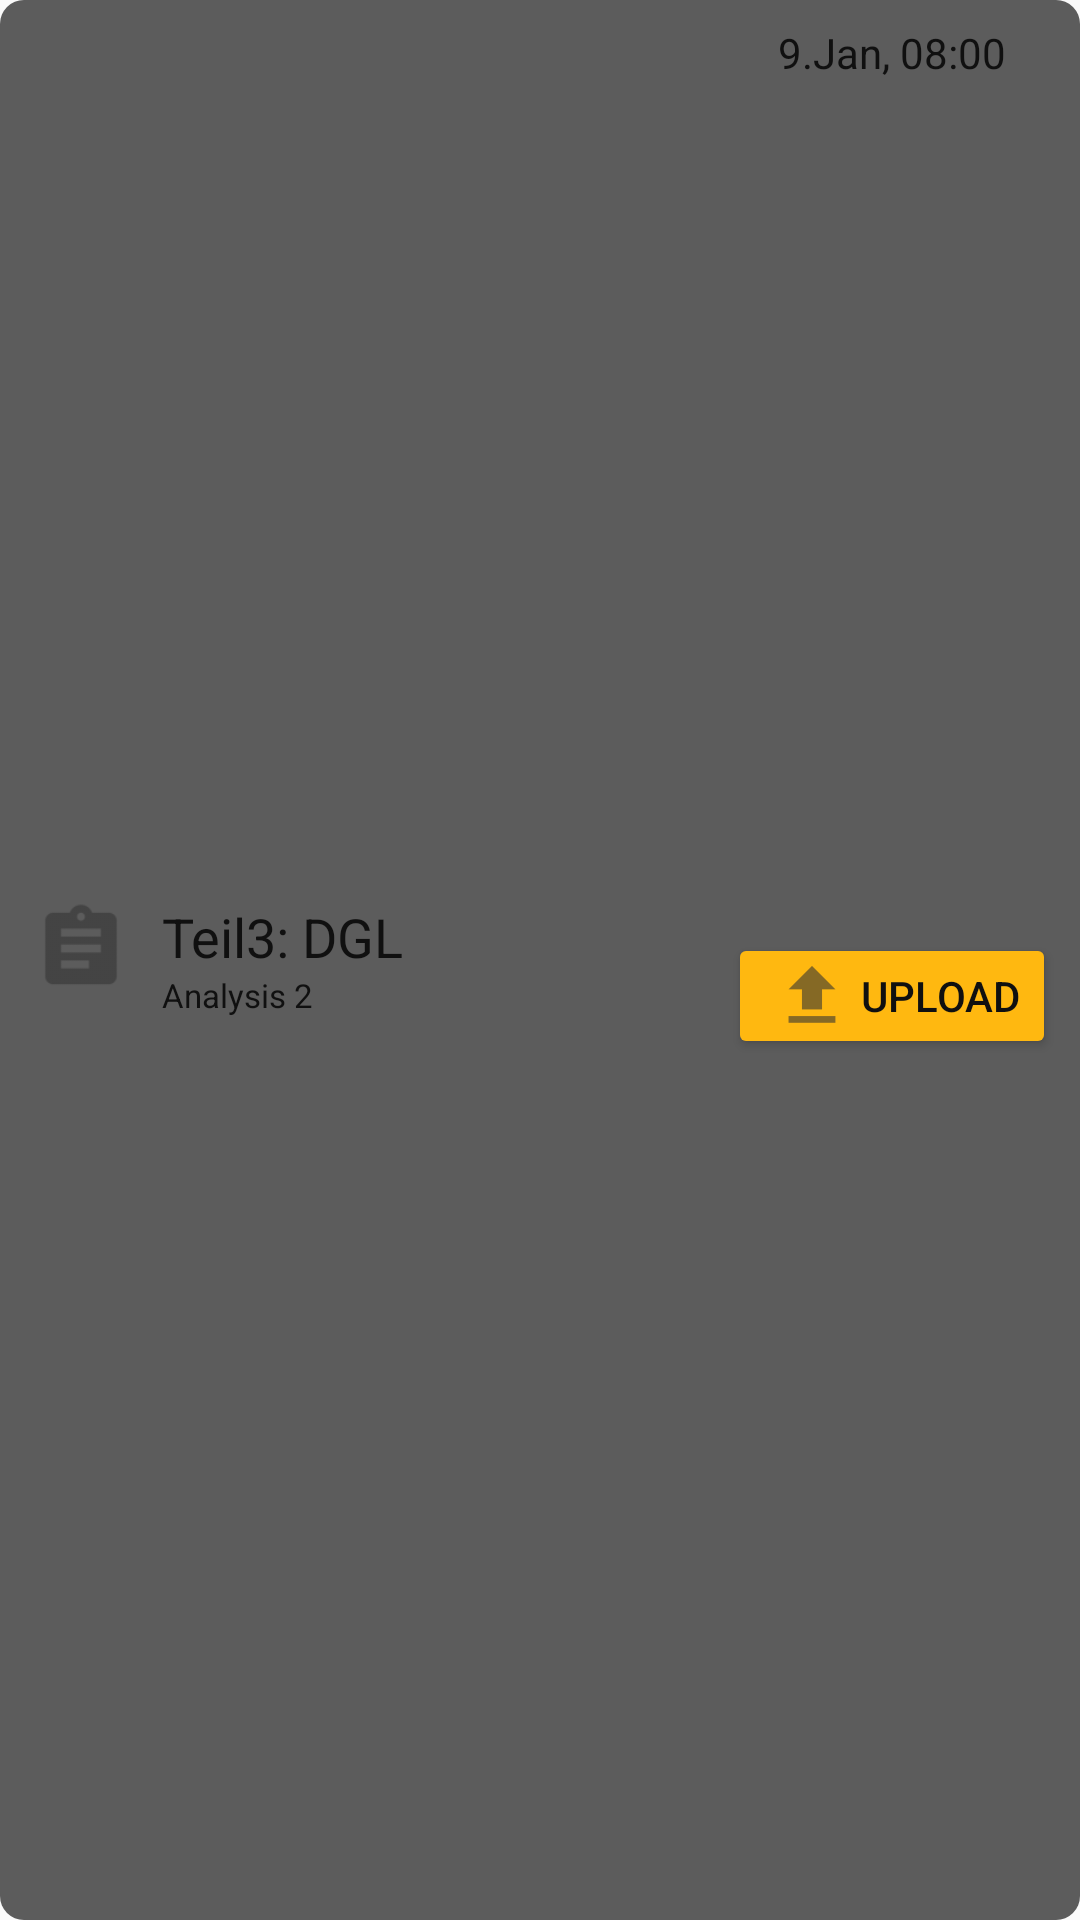

Named icons in this screenshot (1080px x 1920px) and their bounding boxes, bbox(x1, y1, x2, y2):
assignments: bbox(45, 904, 117, 984)
